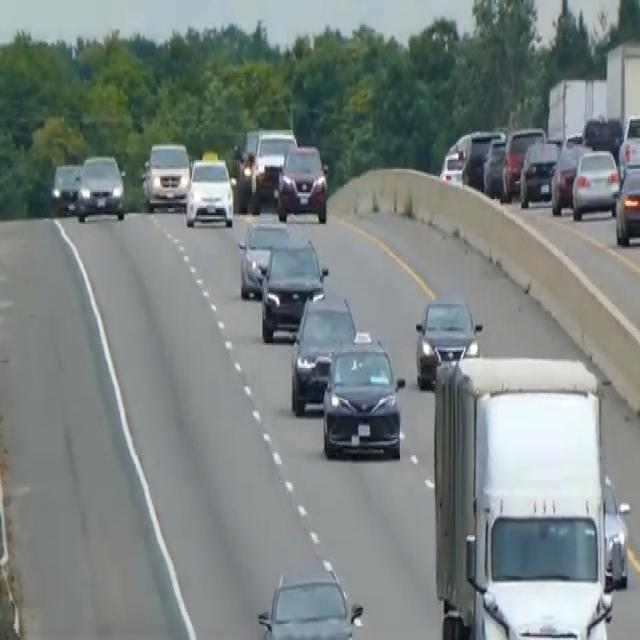car: (321, 329, 405, 460), (289, 290, 357, 414), (256, 564, 364, 638), (259, 236, 328, 342), (414, 295, 481, 389), (237, 212, 291, 298), (276, 142, 328, 222), (439, 128, 503, 188), (185, 154, 234, 228), (571, 146, 619, 220), (76, 151, 125, 222), (142, 138, 190, 210), (601, 473, 630, 588), (501, 125, 546, 199), (251, 128, 297, 199), (550, 140, 590, 213), (518, 139, 560, 206), (614, 164, 639, 245), (581, 112, 623, 158), (439, 130, 472, 185), (50, 160, 81, 215), (482, 134, 508, 198), (233, 126, 262, 180), (617, 110, 639, 176)
lorry: (431, 350, 627, 638)
